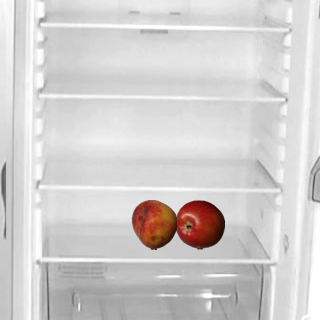Apple Braeburn: (174, 199, 224, 249)
Peach: (129, 199, 179, 249)
